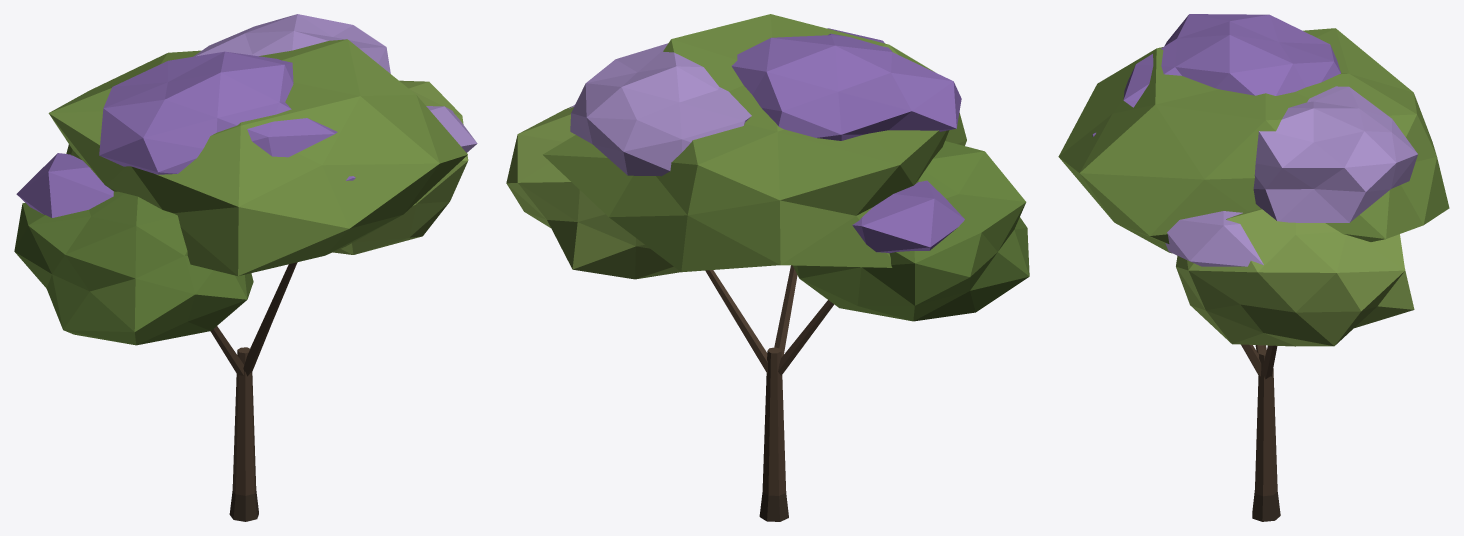
File: tree_jacaranda.glb
3 renders of one model, left to right at view 1: azimuth 30°, elevation 25°; view 2: azimuth 150°, elevation 25°; view 3: azimuth 270°, elevation 25°, orthographic.
Parts seen in each view (by area): view 1: tree_jacaranda; view 2: tree_jacaranda; view 3: tree_jacaranda.
Part boxes in pixels (x1,y1,x2,y2): tree_jacaranda: (14, 14, 477, 521); tree_jacaranda: (506, 14, 1029, 521); tree_jacaranda: (1058, 14, 1449, 521).
Bounding box in the file's own units: 7.1 × 7.2 × 5.54.
